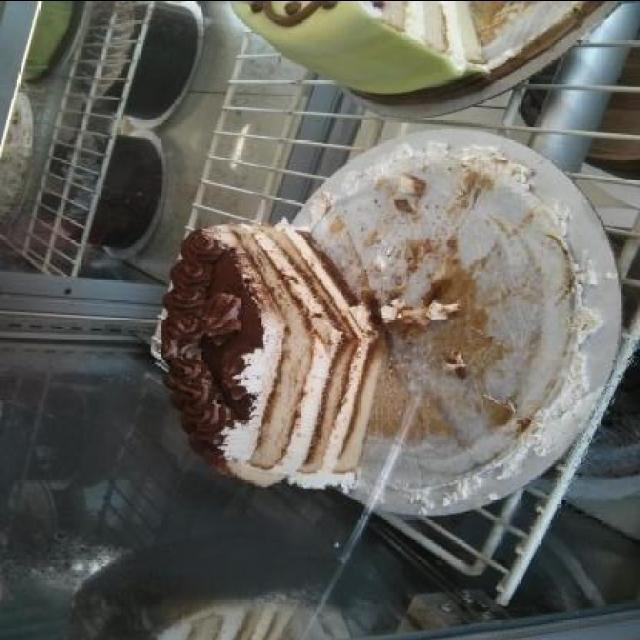Pancake: (203, 134, 580, 503)
